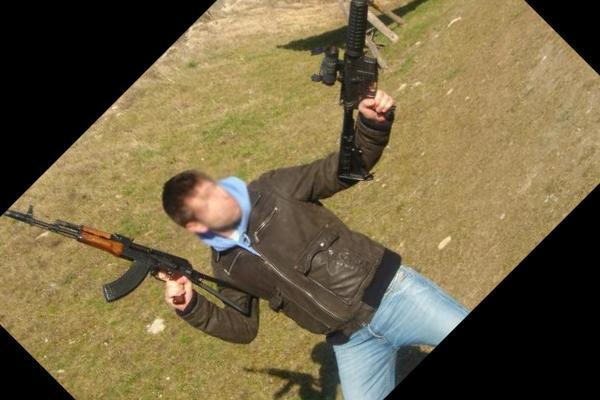larga: (2, 204, 254, 317), (309, 2, 380, 183)
